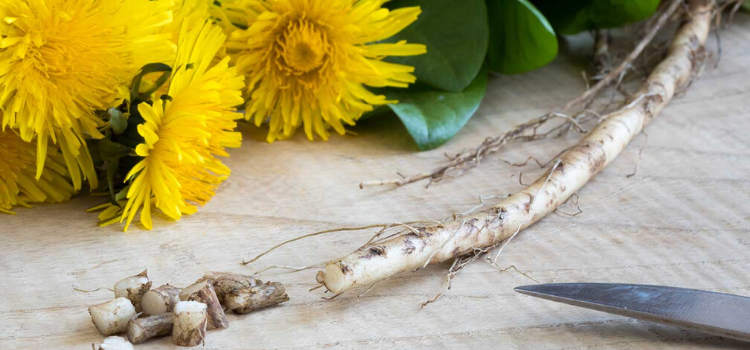begonvil: (226, 0, 419, 144), (2, 0, 175, 150), (111, 70, 250, 228)
